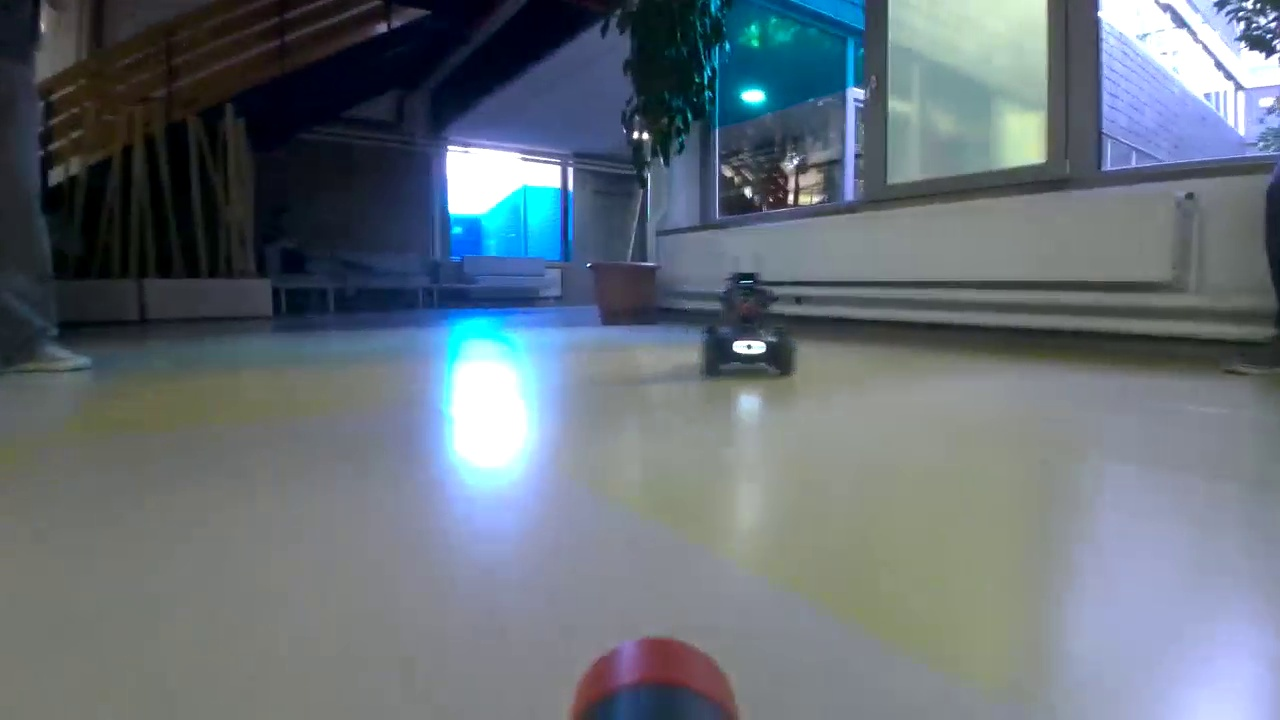robot: (692, 274, 792, 372)
